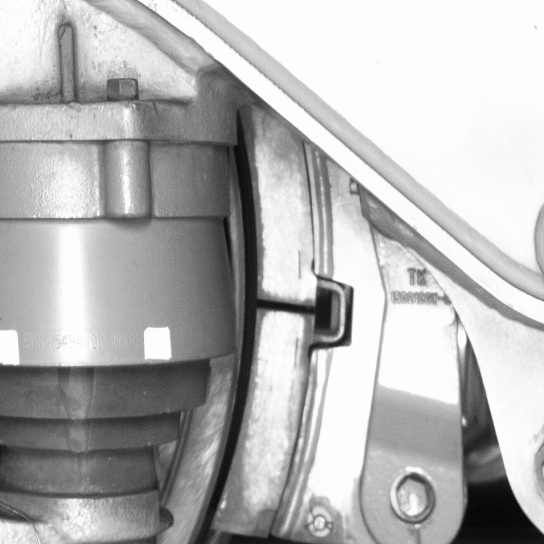KnifeSwitch: (181, 144, 328, 542)
